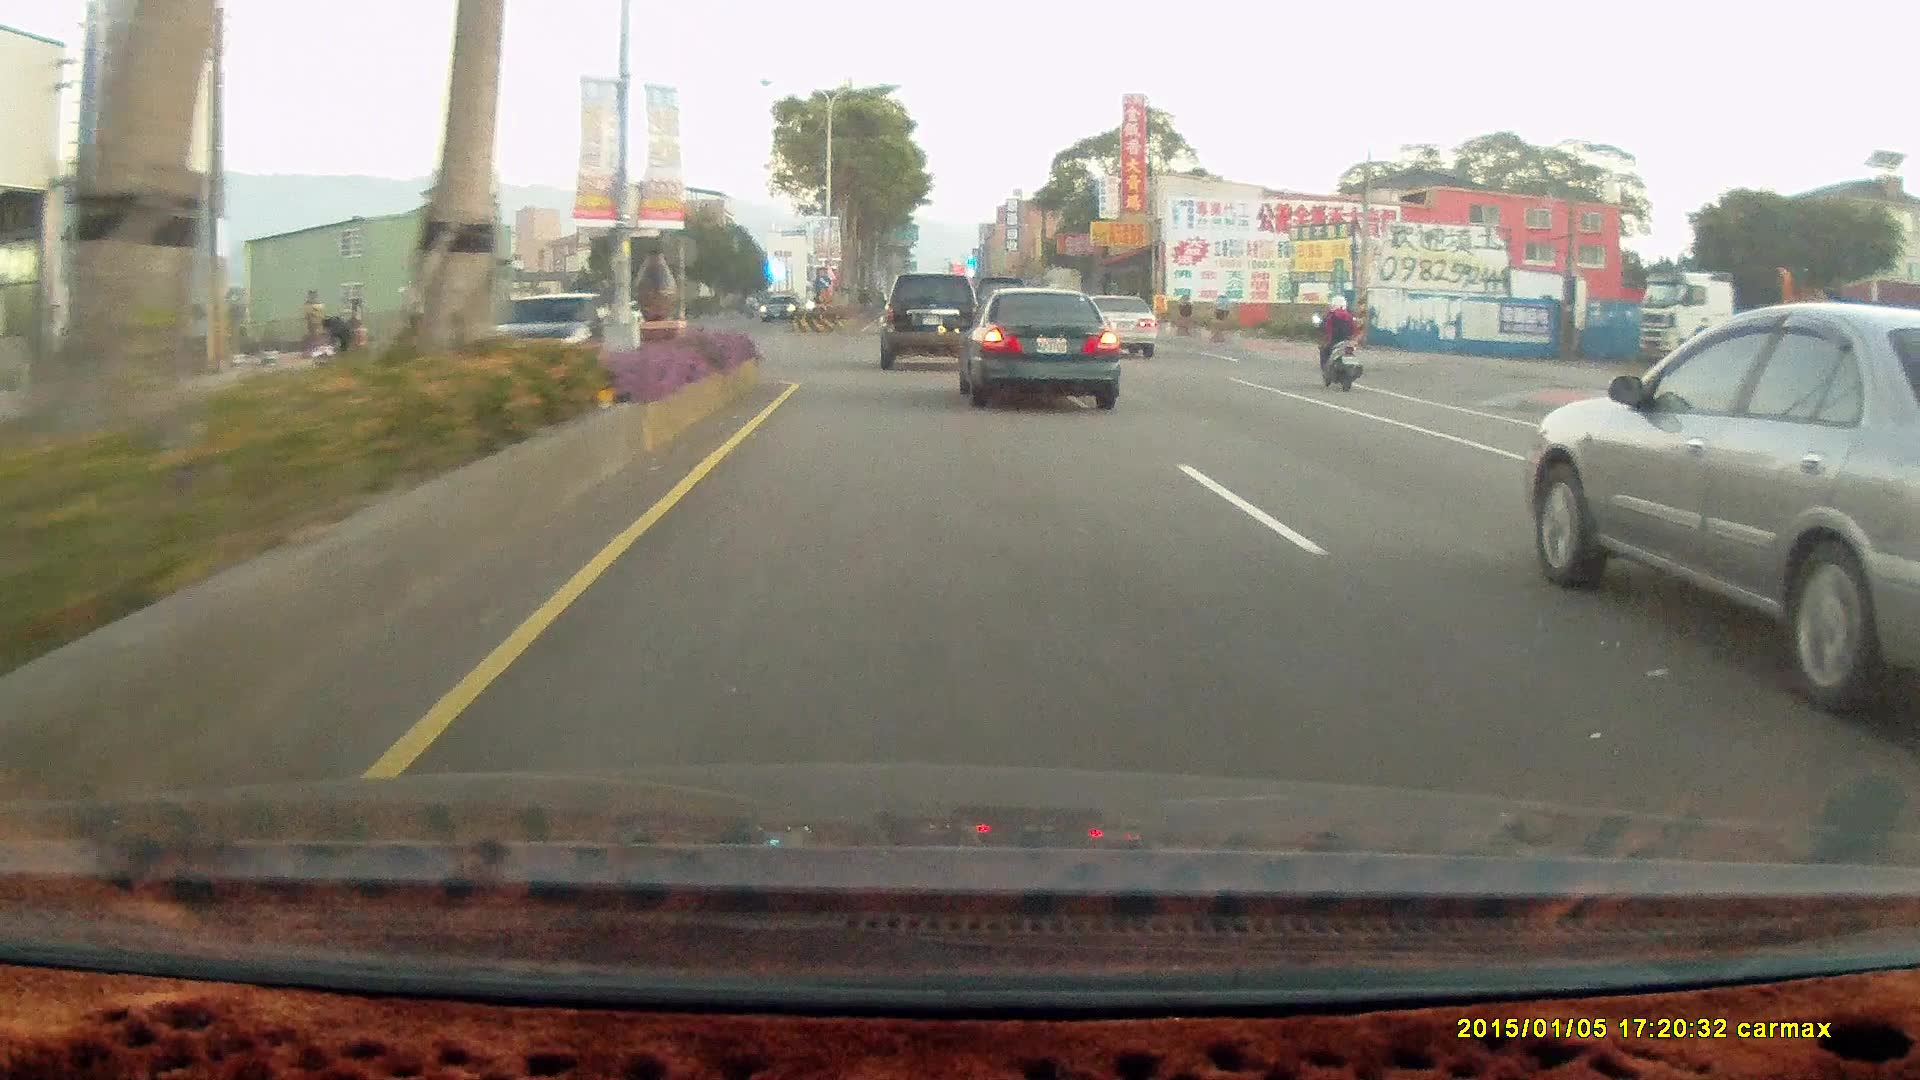pedestrian: (317, 313, 352, 363)
rider: (1305, 287, 1373, 400), (1308, 293, 1364, 390)
vehicle: (1529, 301, 1920, 717), (1635, 271, 1920, 371), (946, 290, 1112, 412), (963, 294, 1126, 415), (487, 288, 619, 377), (489, 291, 616, 380), (880, 274, 986, 374), (879, 273, 981, 369), (79, 312, 198, 385), (1076, 294, 1161, 359), (755, 297, 805, 327), (758, 293, 802, 322)
